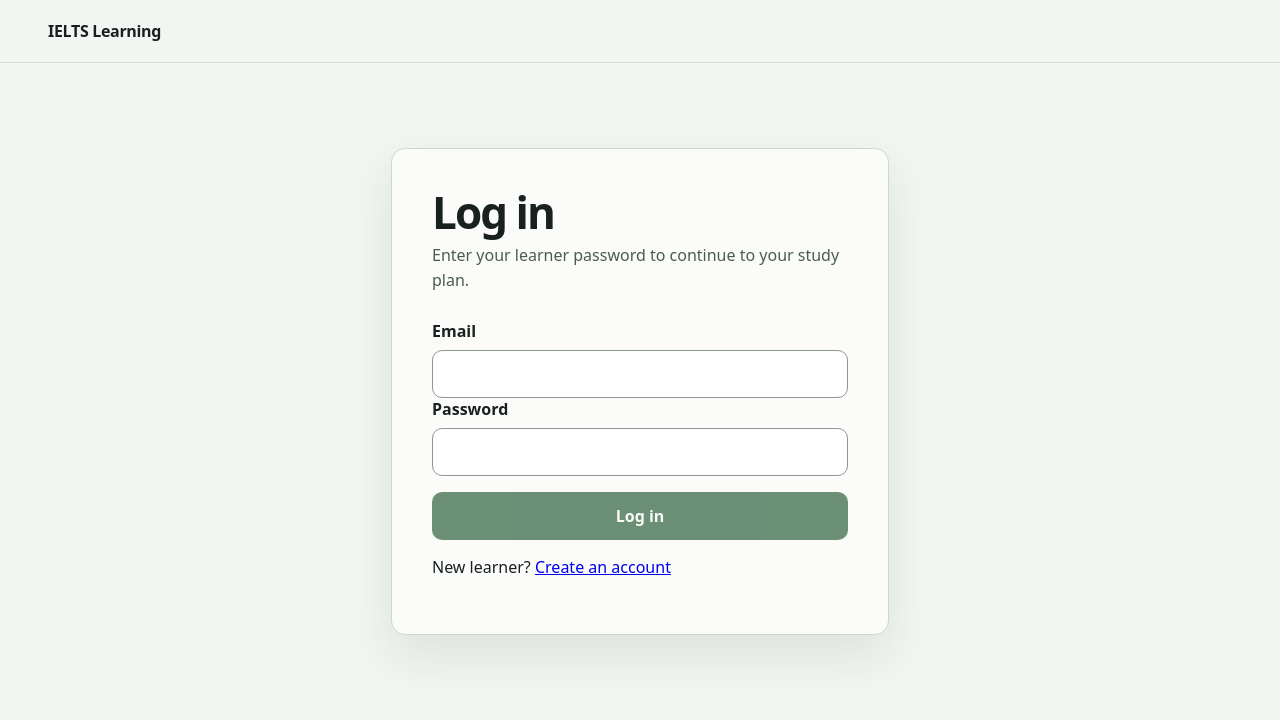
Test: LoginComponent › shows only the backend generic rejection message for an incorrect password
In the field with test id "email-input": [640, 374] box [432,350,848,398], type "developer@example.com"
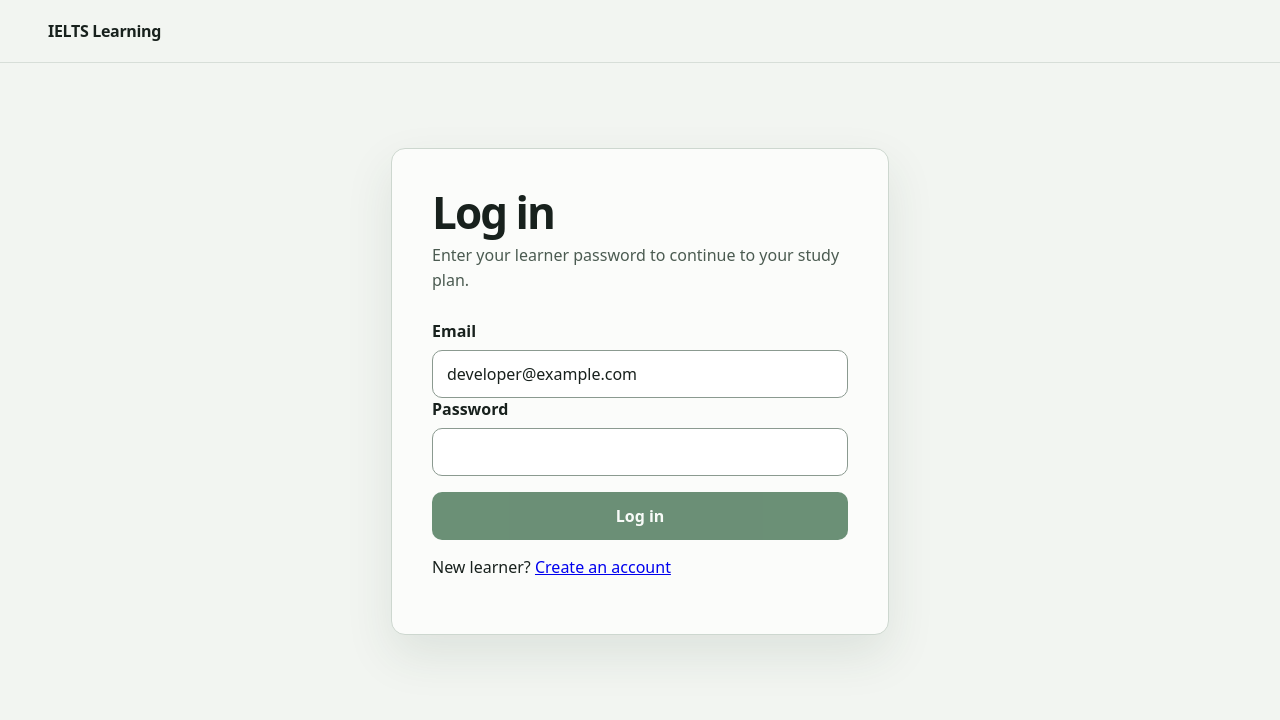
In the password field with test id "password-input": [640, 452] box [432,428,848,476], type "wrong password"
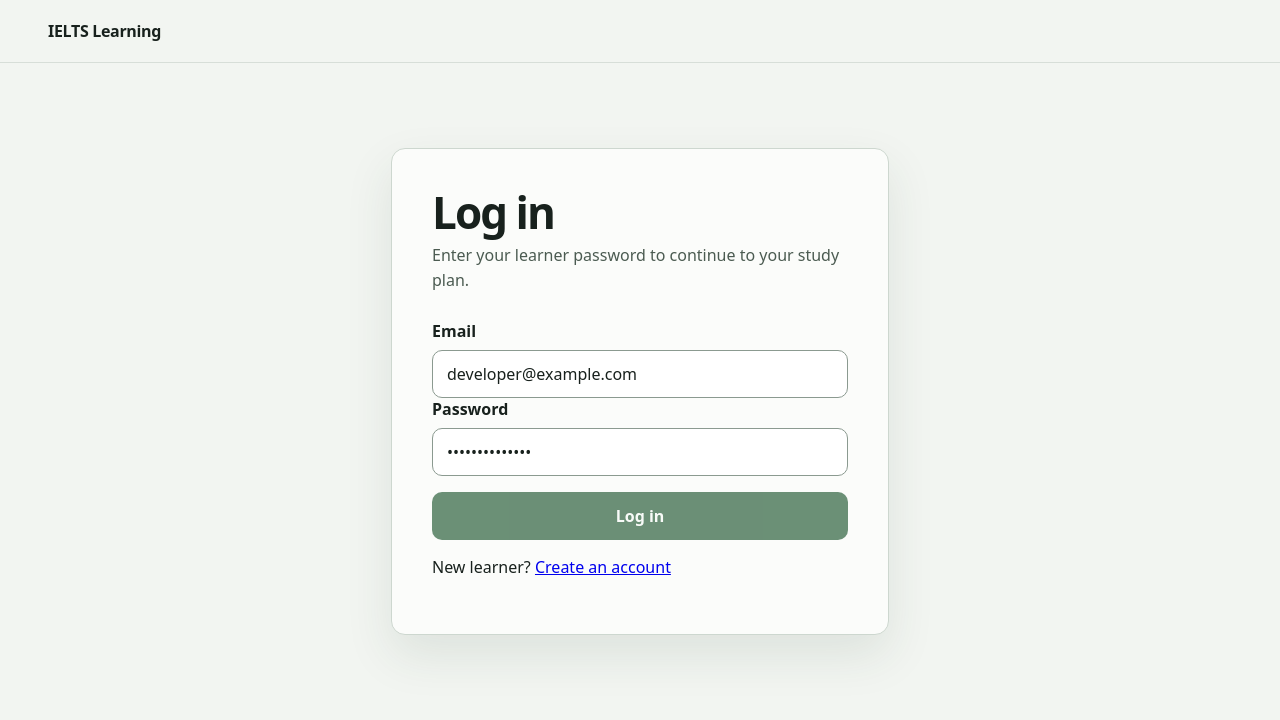
Submit the form, box [432,320,848,540]
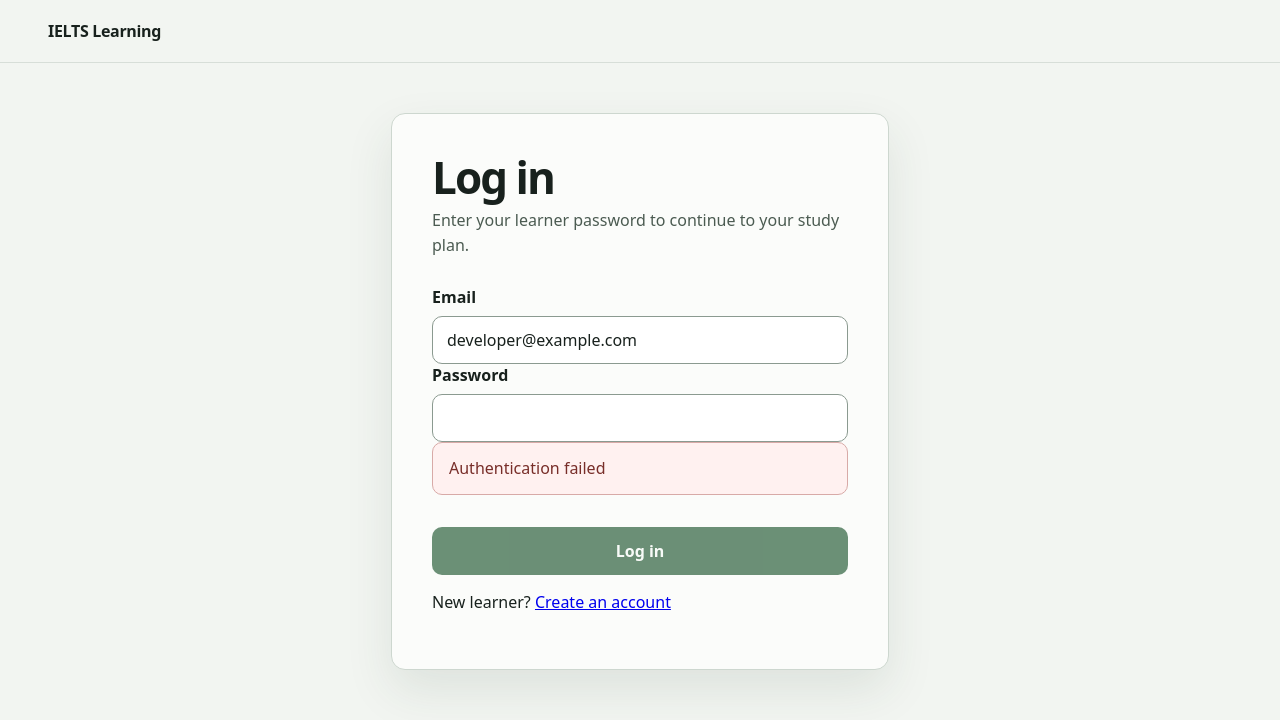
Check: the message with test id "login-error" reads "Authentication failed", box [449,457,606,479]
